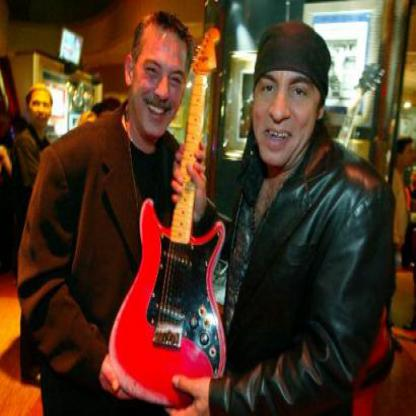face: (253, 22, 320, 171), (134, 19, 189, 140), (30, 87, 53, 130)
